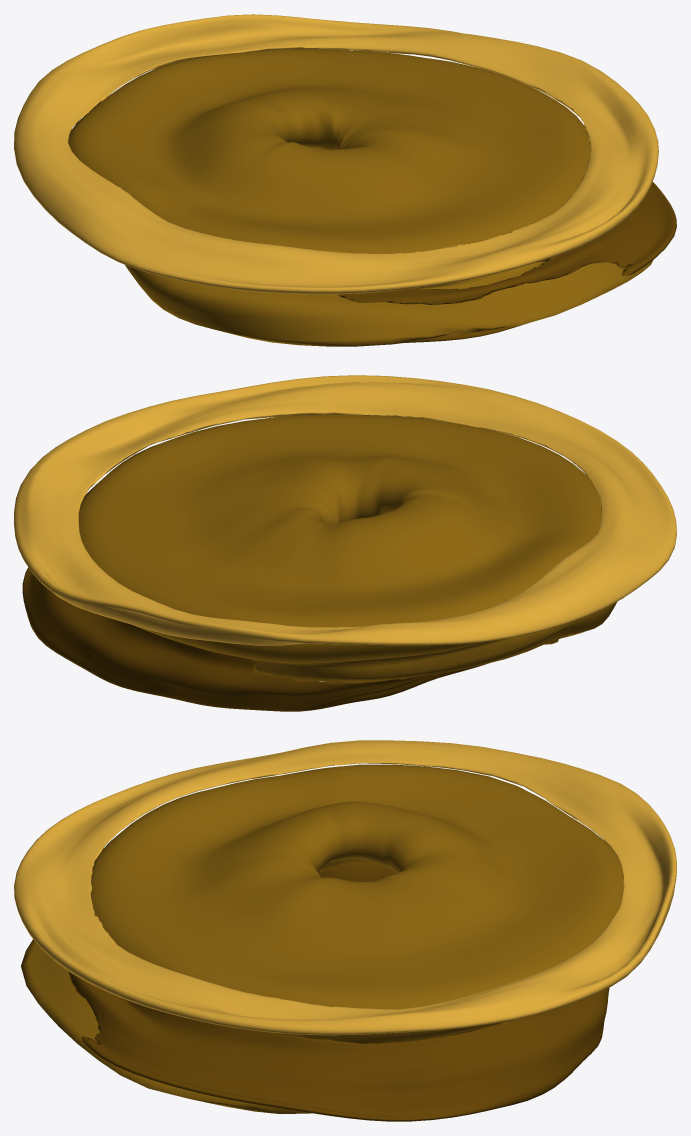
Rendered from horse.glb.
3 renders of one model, top to bottom at view 1: azimuth 30°, elevation 25°; view 2: azimuth 150°, elevation 25°; view 3: azimuth 270°, elevation 25°, orthographic. The views are drawn at different scales.
Parts seen in each view (by area): view 1: Vert.002, Vert.005, Vert.003; view 2: Vert.002, Vert.005, Vert.003; view 3: Vert.002, Vert.005, Vert.003, Vert.004.
Boxes of the visible parts, x1,y1,x2,y2 form: Vert.002: [68, 49, 652, 346]; Vert.005: [14, 14, 658, 294]; Vert.003: [338, 182, 676, 342]; Vert.002: [78, 414, 617, 681]; Vert.005: [14, 375, 676, 645]; Vert.003: [22, 567, 488, 711]; Vert.002: [21, 764, 623, 1113]; Vert.005: [14, 740, 676, 1035]; Vert.003: [68, 971, 609, 1121]; Vert.004: [317, 861, 396, 881].
Bounding box in the file's own units: 2.28 × 0.5473 × 2.25.
